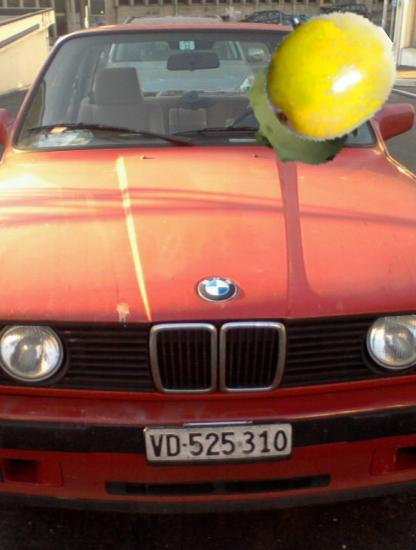Kohlrabi: (241, 54, 360, 173)
Maracuja: (259, 2, 398, 141)
